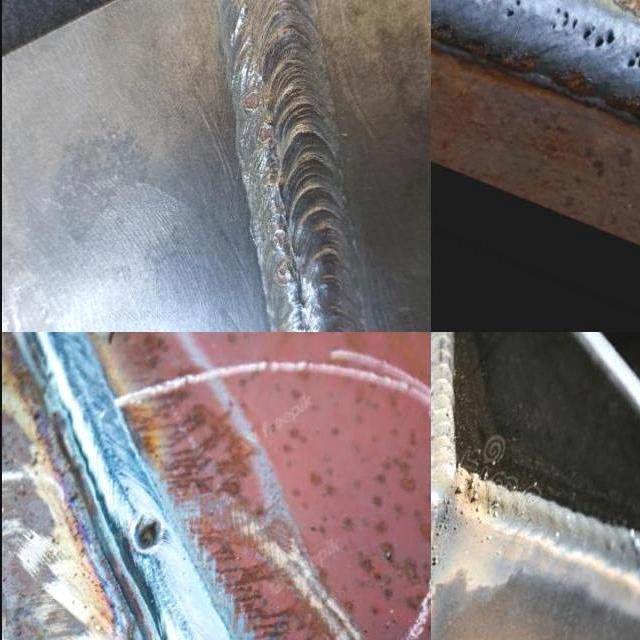defect: (430, 473, 506, 545), (128, 516, 162, 555), (578, 23, 619, 52), (548, 5, 578, 31), (621, 33, 640, 72), (253, 115, 274, 147), (242, 86, 263, 114), (269, 217, 287, 248), (267, 263, 289, 284), (429, 540, 443, 570), (502, 0, 522, 18), (234, 1, 250, 22)
